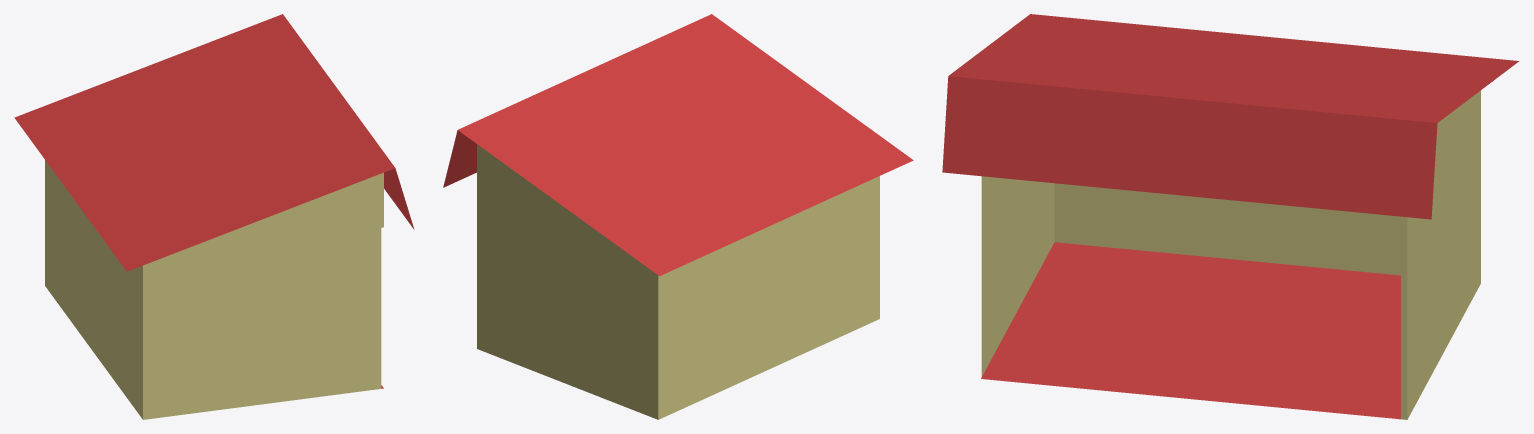
3 renders of one model, left to right at view 1: azimuth 30°, elevation 25°; view 2: azimuth 150°, elevation 25°; view 3: azimuth 270°, elevation 25°, orthographic. The views are drawn at different scales.
Size of the model in its own units: 11.61 by 13.47 by 7.78.
